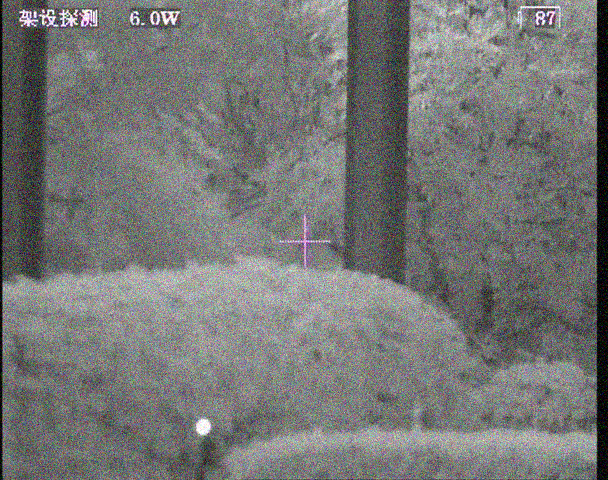my: (195, 418, 211, 437)
